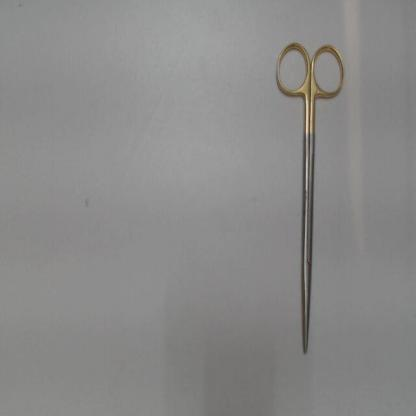7 Metzenbaum Scissors: (274, 38, 347, 354)
